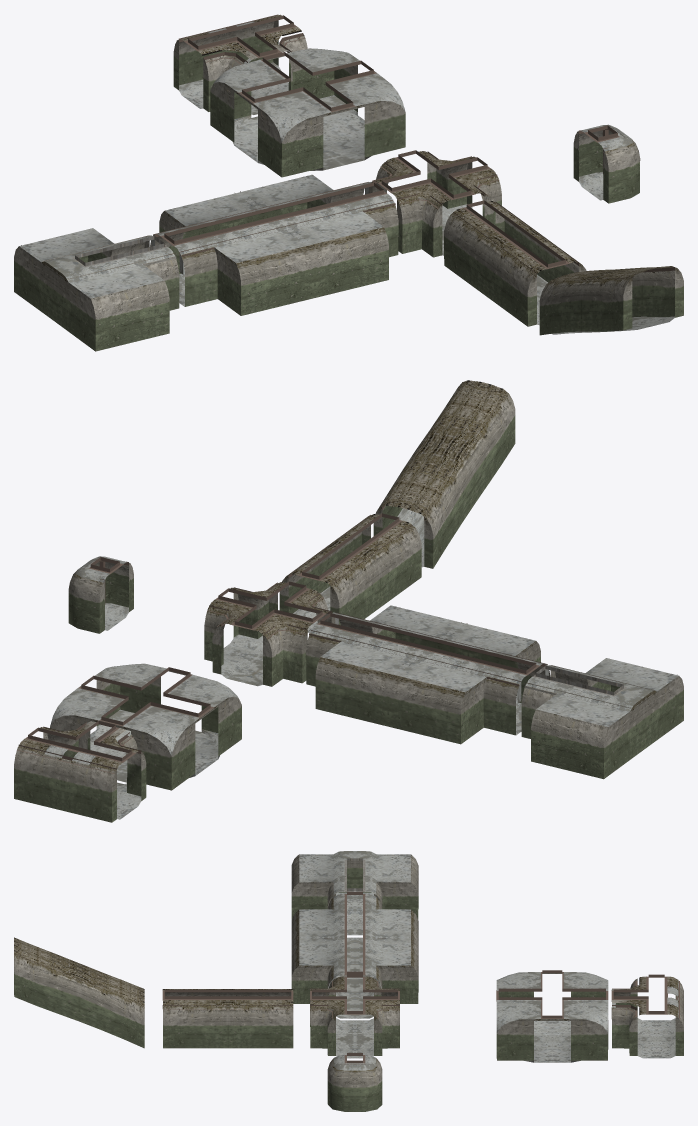
The model's file is BunkerOnly.fbx.
3 renders of one model, top to bottom at view 1: azimuth 30°, elevation 25°; view 2: azimuth 150°, elevation 25°; view 3: azimuth 270°, elevation 25°, orthographic. The views are drawn at different scales.
Visible parts, largest first — view 1: FortHallWide, FortIntersectionBig, FortOffice, FortHall, FortHall.001, FortIntersection, FortTIntersection, FortEnd; view 2: FortHallWide, FortOffice, FortIntersectionBig, FortHall.001, FortTIntersection, FortIntersection, FortHall, FortEnd; view 3: FortHallWide, FortIntersectionBig, FortHall, FortHall.001, FortOffice, FortIntersection, FortTIntersection, FortEnd.
Boxes of the visible parts, x1=… form: FortHallWide: x1=150, y1=174, x2=398, y2=315; FortIntersectionBig: x1=210, y1=48, x2=405, y2=177; FortOffice: x1=14, y1=228, x2=179, y2=351; FortHall: x1=444, y1=200, x2=586, y2=326; FortHall.001: x1=539, y1=266, x2=683, y2=335; FortIntersection: x1=368, y1=150, x2=501, y2=257; FortTIntersection: x1=173, y1=14, x2=307, y2=114; FortEnd: x1=573, y1=124, x2=640, y2=203; FortHallWide: x1=306, y1=605, x2=550, y2=744; FortOffice: x1=521, y1=658, x2=683, y2=779; FortIntersectionBig: x1=50, y1=663, x2=241, y2=790; FortHall.001: x1=373, y1=380, x2=515, y2=568; FortTIntersection: x1=14, y1=720, x2=146, y2=822; FortIntersection: x1=204, y1=581, x2=335, y2=686; FortHall: x1=279, y1=513, x2=421, y2=632; FortEnd: x1=68, y1=556, x2=133, y2=633; FortHallWide: x1=291, y1=892, x2=418, y2=1018; FortIntersectionBig: x1=496, y1=970, x2=608, y2=1062; FortHall: x1=162, y1=989, x2=293, y2=1048; FortHall.001: x1=14, y1=937, x2=144, y2=1048; FortOffice: x1=291, y1=851, x2=418, y2=935; FortIntersection: x1=310, y1=974, x2=399, y2=1058; FortTIntersection: x1=611, y1=974, x2=683, y2=1058; FortEnd: x1=327, y1=1053, x2=382, y2=1111.
Size of the model in its own units: 4483 by 5785 by 916.
